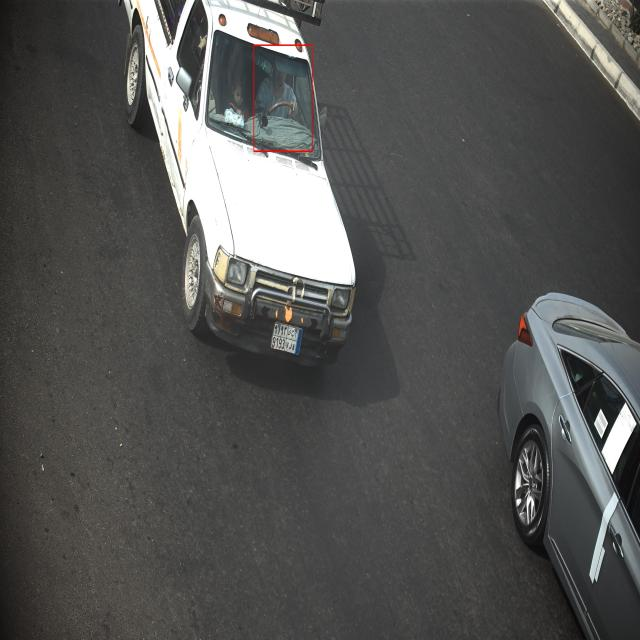windshield: (205, 26, 324, 168)
